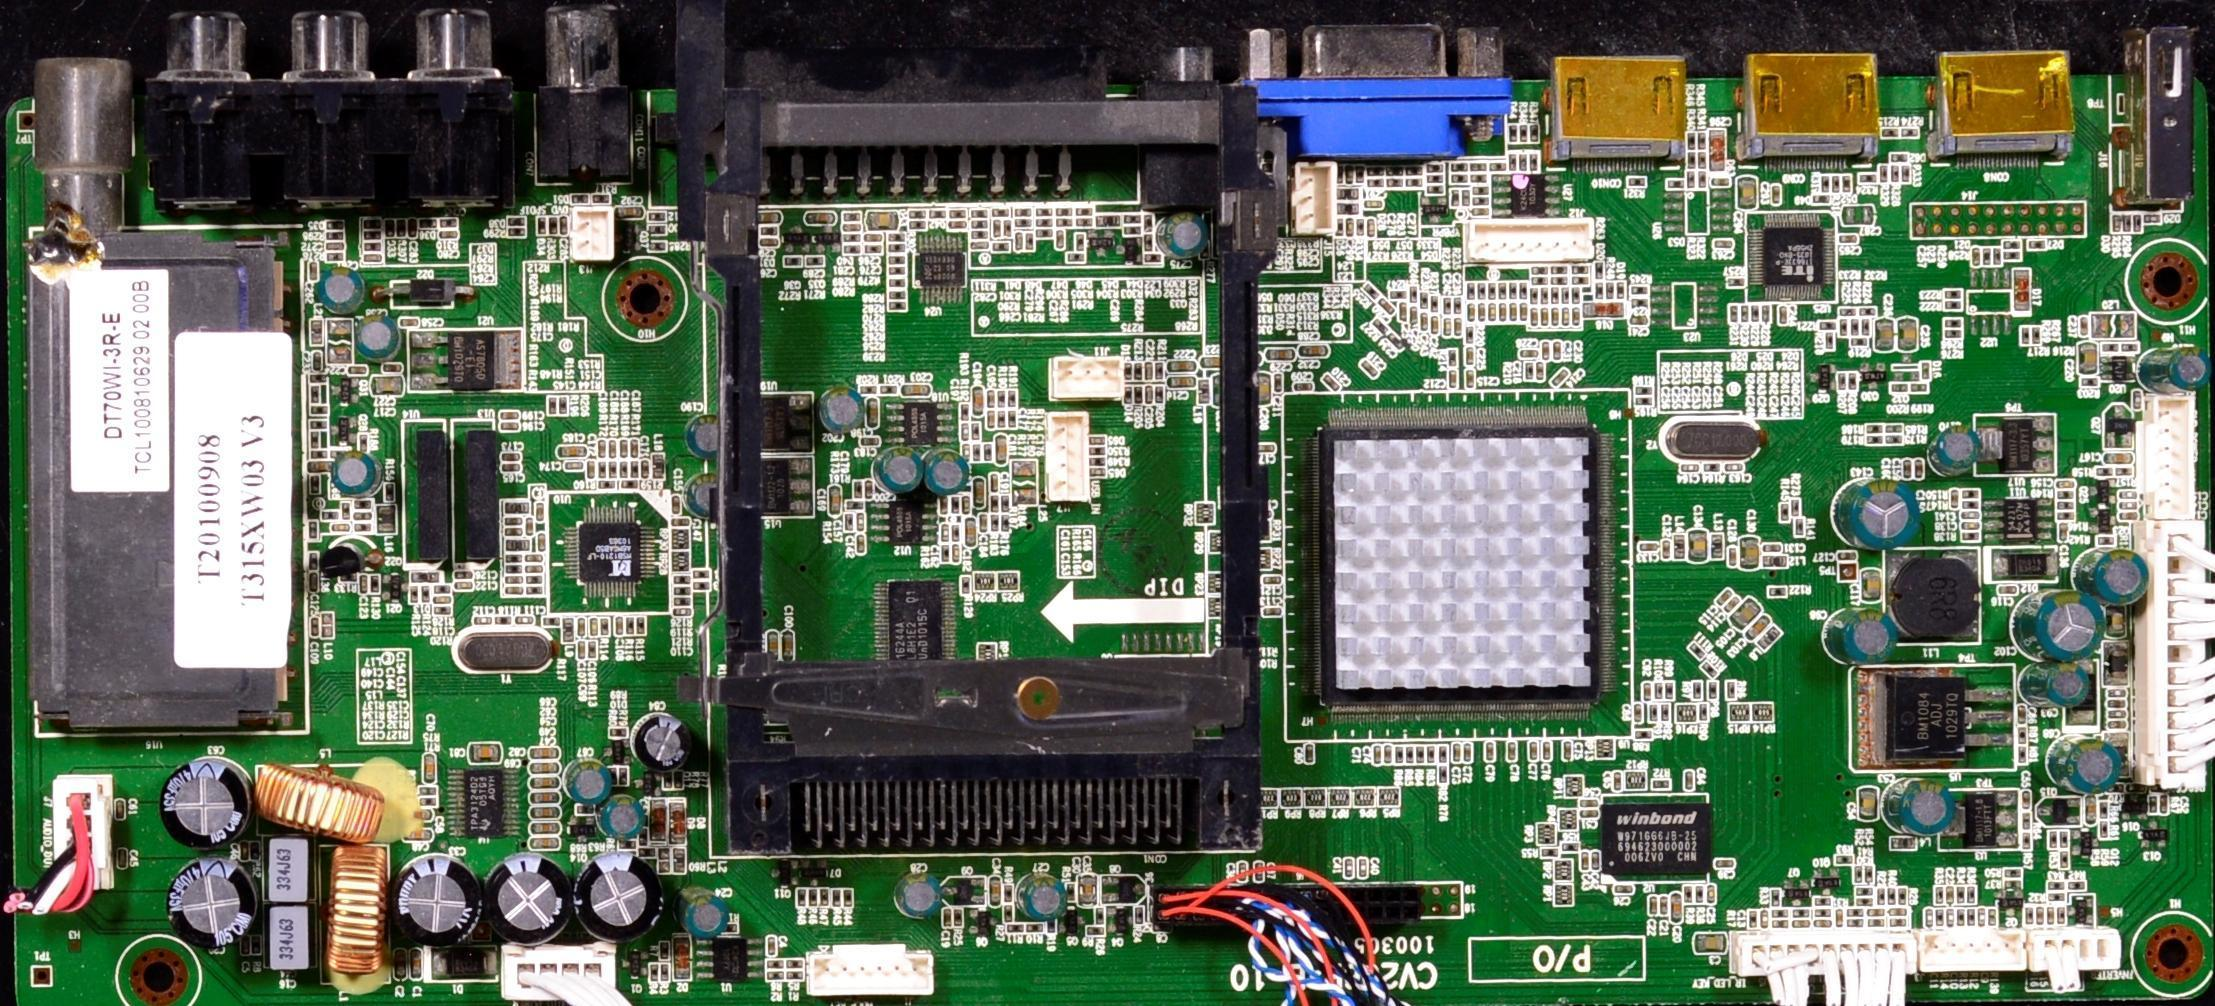Capacitor: (2024, 594, 2092, 657), (1883, 782, 1949, 835), (2055, 736, 2115, 795), (2144, 347, 2212, 393), (2083, 550, 2143, 601), (2020, 665, 2083, 703), (1163, 215, 1210, 255), (2074, 341, 2101, 378), (1735, 174, 1759, 209), (1861, 569, 1882, 606), (2103, 604, 2126, 636), (1899, 317, 1920, 351), (1877, 317, 1897, 352), (1692, 933, 1727, 953), (373, 376, 405, 397), (1841, 205, 1875, 225), (1740, 534, 1760, 567), (467, 743, 502, 762), (1687, 529, 1707, 560), (867, 210, 898, 228), (532, 834, 563, 850), (531, 805, 563, 821), (988, 875, 1004, 904), (529, 745, 559, 760), (529, 759, 560, 774), (826, 487, 843, 516), (422, 754, 439, 783), (406, 826, 433, 843), (531, 789, 559, 804), (531, 819, 562, 834), (667, 491, 684, 517), (355, 572, 371, 598), (1360, 359, 1380, 380), (971, 388, 984, 418), (1265, 349, 1297, 362), (866, 397, 879, 430), (1299, 345, 1331, 357), (994, 434, 1007, 465), (554, 445, 585, 458), (1735, 595, 1748, 626), (964, 519, 977, 546), (806, 212, 836, 225), (328, 521, 353, 535), (574, 639, 588, 664), (1168, 360, 1199, 372), (1259, 375, 1270, 406), (499, 418, 522, 432), (2104, 697, 2127, 710), (1610, 880, 1635, 895), (1669, 894, 1683, 919), (973, 476, 985, 506), (1167, 376, 1195, 387), (903, 384, 931, 395), (500, 448, 522, 462), (1260, 604, 1283, 617), (620, 441, 635, 461), (628, 441, 644, 461), (2103, 453, 2134, 463), (588, 615, 600, 638), (502, 574, 528, 585), (532, 776, 559, 787), (2132, 390, 2146, 411), (1750, 615, 1764, 636), (1365, 217, 1377, 240), (1054, 229, 1066, 251), (1200, 357, 1225, 369), (574, 616, 586, 638), (407, 808, 432, 820), (1325, 373, 1340, 391), (755, 212, 782, 222), (525, 562, 545, 577), (1504, 743, 1519, 763), (437, 230, 461, 241), (2078, 314, 2089, 337), (501, 462, 525, 474), (1706, 882, 1718, 905), (1363, 198, 1385, 210), (532, 501, 545, 523), (524, 517, 537, 539), (1371, 745, 1384, 766), (1683, 770, 1695, 791), (1381, 300, 1395, 318), (1390, 332, 1404, 350), (1628, 314, 1650, 325), (1448, 367, 1459, 390), (670, 515, 692, 526), (1838, 549, 1860, 561), (1995, 584, 2017, 595), (2104, 719, 2126, 731), (1343, 858, 1355, 880), (1343, 217, 1356, 238), (1465, 302, 1477, 322), (1257, 440, 1277, 452), (2054, 479, 2080, 489), (1661, 537, 1671, 562), (674, 605, 694, 618), (1459, 187, 1470, 207), (1535, 361, 1547, 381), (586, 462, 597, 483), (2116, 510, 2138, 522), (1639, 542, 1660, 554), (1303, 742, 1314, 763), (1451, 743, 1462, 764), (1383, 745, 1394, 766), (1866, 919, 1887, 930), (498, 411, 522, 421), (559, 462, 584, 472), (978, 512, 988, 535), (1758, 541, 1782, 551), (1590, 850, 1600, 875), (1253, 860, 1263, 885), (1648, 894, 1659, 919), (1810, 918, 1833, 928), (1448, 188, 1460, 206), (1560, 307, 1571, 326), (1550, 369, 1561, 388), (858, 436, 880, 446), (1901, 459, 1912, 479), (1726, 544, 1736, 567), (504, 587, 527, 596), (433, 593, 453, 605), (512, 615, 534, 624), (2105, 689, 2127, 699), (1563, 739, 1573, 759), (1528, 742, 1540, 761), (1543, 740, 1552, 763), (1759, 908, 1770, 928), (1711, 240, 1736, 249), (606, 439, 619, 457), (2016, 705, 2029, 722), (1485, 742, 1497, 759), (1579, 851, 1592, 867), (1344, 165, 1353, 186), (1838, 234, 1859, 244), (969, 240, 990, 250), (1776, 304, 1786, 325), (347, 365, 369, 375), (960, 423, 970, 444), (2118, 502, 2139, 511), (2058, 522, 2068, 543), (856, 533, 866, 554), (1642, 683, 1652, 703), (1236, 862, 1246, 883), (1658, 897, 1669, 918), (985, 411, 996, 429), (1914, 460, 1925, 479), (1581, 808, 1599, 820), (2024, 907, 2035, 926), (1986, 909, 1998, 927), (1923, 909, 1934, 927), (758, 236, 782, 245), (2104, 712, 2127, 721), (2120, 489, 2136, 501), (1460, 744, 1473, 760), (948, 220, 967, 230), (1519, 304, 1529, 323), (1410, 307, 1419, 327), (1634, 704, 1644, 724), (1358, 857, 1368, 878), (1834, 905, 1843, 925), (1944, 909, 1954, 928), (1529, 309, 1540, 326), (1260, 575, 1282, 584), (1613, 770, 1622, 792), (1771, 185, 1782, 204), (992, 219, 1001, 238), (1014, 232, 1024, 250), (1970, 247, 1980, 266), (1571, 309, 1581, 328), (950, 544, 961, 562), (524, 553, 543, 563), (1716, 587, 1726, 605), (473, 614, 492, 625), (2036, 907, 2045, 925), (2045, 908, 2056, 927), (1791, 919, 1809, 928), (1471, 207, 1492, 216), (1144, 384, 1153, 406), (990, 474, 999, 494), (452, 571, 473, 580), (1711, 177, 1730, 185), (863, 233, 883, 242), (1477, 302, 1487, 320), (1486, 302, 1495, 322), (1509, 304, 1518, 321), (1400, 303, 1409, 322), (1540, 310, 1549, 327), (1519, 349, 1539, 358), (600, 440, 609, 459), (962, 495, 970, 514), (537, 533, 547, 550), (2158, 795, 2168, 812), (1578, 798, 1600, 806), (1891, 906, 1906, 917), (1421, 312, 1429, 331), (1541, 340, 1549, 359), (1274, 373, 1283, 392), (986, 390, 995, 408), (1946, 889, 1955, 907), (1978, 909, 1986, 927), (1889, 919, 1907, 927), (841, 223, 861, 231), (1442, 317, 1450, 337), (1499, 305, 1507, 322), (1452, 320, 1461, 336), (454, 582, 471, 590), (1549, 312, 1560, 326), (1431, 317, 1438, 336), (1145, 362, 1153, 382), (1292, 382, 1313, 389), (961, 444, 968, 463), (857, 508, 865, 529), (1725, 596, 1735, 610), (1467, 350, 1475, 366), (938, 497, 947, 513), (326, 240, 345, 247), (1553, 340, 1559, 359), (1716, 858, 1735, 865), (1868, 910, 1886, 917), (1466, 371, 1474, 387), (941, 525, 948, 541)
Connector: (23, 50, 309, 721), (143, 8, 503, 199), (1253, 20, 1512, 170), (523, 15, 641, 204), (1541, 51, 1677, 179), (1923, 48, 2076, 161), (1733, 33, 1882, 149), (798, 951, 927, 988)
IC: (1283, 397, 1628, 734), (1859, 667, 2021, 765), (552, 496, 669, 613), (1745, 211, 1838, 303), (1599, 805, 1710, 880), (407, 328, 528, 394), (458, 417, 508, 570), (870, 577, 956, 660), (408, 422, 453, 569), (1973, 414, 2058, 475), (447, 765, 519, 835), (1951, 789, 2018, 850), (694, 935, 763, 985), (918, 240, 966, 302), (1666, 191, 1730, 234), (1662, 280, 1717, 332), (1494, 176, 1560, 216), (1993, 497, 2048, 543), (1970, 270, 2009, 332), (2101, 357, 2135, 380)
Resistor: (975, 571, 997, 592), (997, 570, 1018, 591), (671, 582, 692, 601), (436, 218, 462, 232), (415, 796, 441, 809), (851, 481, 866, 503), (605, 727, 632, 740), (324, 231, 347, 244), (415, 782, 440, 796), (1964, 887, 1980, 905), (878, 382, 899, 397), (506, 541, 532, 552), (1856, 170, 1877, 183), (1368, 177, 1388, 191), (1909, 382, 1929, 395), (858, 383, 879, 397), (2019, 789, 2033, 810), (796, 886, 809, 907), (2078, 376, 2100, 389), (2095, 534, 2118, 547), (1697, 704, 1709, 726), (2146, 795, 2161, 814), (325, 249, 345, 263), (1523, 362, 1537, 382), (639, 461, 652, 480), (338, 502, 352, 522), (2066, 879, 2087, 893), (840, 889, 855, 908), (2056, 907, 2069, 927), (618, 478, 641, 489), (350, 498, 374, 509), (959, 573, 971, 598), (1726, 679, 1738, 704), (1652, 778, 1675, 790), (1726, 277, 1747, 289), (595, 481, 616, 493), (2045, 879, 2067, 891), (1085, 926, 1106, 938), (2043, 892, 2069, 902), (971, 205, 989, 219), (1693, 644, 1706, 663), (2016, 745, 2030, 763), (1094, 907, 1107, 926), (502, 561, 524, 572), (431, 582, 453, 594), (1538, 848, 1561, 859), (783, 256, 803, 268), (2019, 326, 2032, 346), (1889, 380, 1908, 393), (1768, 889, 1782, 909), (1528, 124, 1540, 145), (2103, 339, 2120, 353), (310, 385, 320, 406), (2056, 489, 2076, 500), (1779, 504, 1790, 526), (1767, 587, 1789, 597), (1663, 679, 1674, 701), (1706, 679, 1718, 701), (1691, 680, 1702, 701), (2099, 800, 2110, 821), (2100, 820, 2112, 840), (1833, 855, 1855, 866), (1002, 884, 1013, 905), (2091, 469, 2114, 479), (588, 636, 597, 660), (908, 208, 926, 220), (1073, 232, 1086, 250), (948, 497, 961, 516), (2016, 727, 2028, 746), (806, 887, 819, 906), (1520, 123, 1530, 145), (1354, 165, 1365, 185), (1991, 247, 2002, 267), (1066, 251, 1086, 263), (805, 255, 825, 266), (1571, 274, 1590, 285), (1486, 280, 1497, 300), (1837, 305, 1856, 316), (1836, 372, 1848, 391), (1865, 424, 1885, 435), (1886, 435, 1906, 446), (607, 458, 617, 480), (352, 512, 374, 521), (502, 515, 524, 524), (524, 575, 546, 585), (409, 584, 421, 604), (623, 615, 634, 634), (1649, 705, 1660, 725), (1437, 764, 1448, 784), (1855, 895, 1875, 905), (1813, 896, 1832, 907), (1770, 909, 1792, 919), (1004, 904, 1015, 924), (1934, 909, 1945, 928), (1426, 161, 1442, 174), (1453, 174, 1471, 187), (1445, 350, 1458, 367), (999, 516, 1011, 532), (354, 522, 372, 534), (504, 550, 521, 562), (2004, 879, 2022, 891), (2133, 214, 2143, 235), (841, 233, 862, 243), (364, 241, 385, 252), (841, 244, 861, 254), (1942, 300, 1964, 310), (2120, 342, 2141, 352), (1155, 384, 1165, 405), (503, 525, 524, 536), (635, 615, 645, 636), (1066, 882, 1077, 903), (1819, 173, 1831, 191), (908, 219, 927, 230), (993, 240, 1011, 252), (1858, 305, 1876, 316), (1818, 319, 1837, 330), (1861, 320, 1872, 337), (2031, 326, 2042, 345), (1847, 373, 1858, 391), (995, 390, 1006, 409), (995, 410, 1006, 428), (309, 430, 320, 448), (1089, 457, 1107, 467), (309, 522, 320, 540), (541, 615, 559, 626), (1934, 887, 1945, 905), (819, 888, 831, 906), (1874, 890, 1889, 904), (1686, 130, 1696, 150), (1449, 162, 1469, 173), (1427, 175, 1447, 185), (1628, 176, 1647, 186), (1401, 176, 1421, 187), (926, 208, 947, 218), (2003, 250, 2023, 260), (886, 265, 906, 275), (1944, 290, 1963, 299), (1763, 305, 1773, 325), (1850, 320, 1861, 339), (1466, 326, 1476, 346), (1155, 362, 1165, 381), (1006, 389, 1016, 408), (959, 402, 969, 423), (1866, 434, 1886, 443), (2113, 467, 2133, 478), (1790, 499, 1800, 519), (320, 509, 340, 519), (1795, 518, 1805, 538), (673, 573, 692, 583), (1660, 703, 1670, 724), (1439, 744, 1449, 764), (1415, 745, 1426, 764), (1865, 865, 1874, 884), (1134, 904, 1144, 924), (1845, 917, 1864, 927), (766, 959, 785, 969), (1685, 153, 1697, 169), (1830, 174, 1841, 191), (1074, 208, 1096, 216), (861, 244, 884, 253), (888, 254, 906, 265), (1593, 262, 1605, 279), (1429, 296, 1441, 312), (1006, 410, 1017, 427), (310, 449, 327, 460), (2056, 512, 2078, 520), (940, 545, 951, 562), (525, 588, 548, 596), (674, 595, 691, 606), (1898, 888, 1910, 904), (1955, 888, 1967, 904), (1771, 919, 1788, 929), (1404, 166, 1423, 175), (970, 220, 989, 230), (1002, 219, 1012, 237), (1750, 305, 1760, 324), (558, 396, 568, 414), (617, 460, 627, 479), (693, 581, 712, 590), (419, 585, 430, 603), (1559, 840, 1578, 851), (1682, 887, 1692, 905), (1747, 910, 1758, 928), (650, 962, 660, 980), (660, 963, 670, 982), (767, 971, 786, 981), (1386, 177, 1400, 189), (1425, 186, 1446, 195), (1033, 229, 1054, 238), (1530, 277, 1551, 285), (1499, 278, 1507, 299), (1570, 289, 1582, 304), (1942, 319, 1963, 328), (1943, 329, 1963, 338), (1134, 361, 1143, 382), (842, 511, 851, 532), (989, 514, 1001, 529), (691, 568, 712, 577), (1425, 744, 1434, 766), (955, 906, 963, 927), (1143, 234, 1154, 250), (1367, 284, 1379, 300), (1408, 285, 1419, 301), (1549, 287, 1561, 302), (629, 463, 640, 479), (1885, 888, 1896, 903), (1696, 130, 1704, 154), (1488, 162, 1505, 173), (1880, 164, 1888, 183), (1698, 173, 1708, 189), (1013, 206, 1033, 215), (992, 207, 1009, 217), (1124, 215, 1142, 225), (1143, 215, 1153, 232), (2122, 215, 2132, 232), (547, 217, 557, 235), (1551, 264, 1568, 274), (889, 278, 906, 288), (1631, 285, 1649, 295), (888, 290, 906, 299), (1420, 292, 1430, 309), (548, 395, 557, 416), (310, 406, 329, 414), (309, 421, 329, 430), (1885, 424, 1904, 433), (1090, 447, 1107, 457), (983, 444, 992, 463), (598, 460, 607, 478), (307, 552, 317, 570), (1636, 732, 1653, 742), (2020, 812, 2030, 829), (1855, 865, 1865, 882), (1955, 909, 1965, 925), (1006, 924, 1026, 933), (786, 970, 803, 981), (431, 607, 454, 615), (601, 612, 608, 635), (1705, 662, 1717, 677), (948, 210, 966, 219), (888, 233, 907, 242), (1388, 289, 1407, 298), (890, 302, 909, 311), (1729, 304, 1738, 322), (1825, 332, 1834, 351), (2056, 503, 2074, 511), (1395, 746, 1404, 764), (1791, 909, 1809, 917), (1965, 909, 1974, 927), (1472, 174, 1487, 183), (1476, 282, 1486, 298), (1509, 282, 1518, 298), (1466, 282, 1476, 298), (1519, 282, 1528, 298), (1540, 289, 1550, 305), (1634, 299, 1650, 309), (950, 525, 961, 541), (494, 615, 510, 625), (1694, 887, 1703, 903), (832, 890, 842, 906), (1814, 907, 1830, 917), (1849, 340, 1870, 348), (1698, 152, 1707, 169), (1891, 164, 1900, 181), (1687, 170, 1695, 186), (1056, 218, 1073, 226), (1076, 218, 1094, 226), (1036, 219, 1053, 227), (1015, 219, 1033, 228), (970, 232, 988, 240), (972, 444, 981, 461), (2002, 867, 2019, 876), (1143, 254, 1162, 261), (1528, 265, 1548, 273), (1442, 300, 1452, 313), (973, 424, 981, 443), (1126, 226, 1141, 235), (888, 243, 904, 252), (1740, 304, 1749, 319), (1841, 319, 1849, 335), (1134, 385, 1142, 403), (1845, 908, 1863, 916), (1473, 184, 1484, 195), (1055, 207, 1076, 213), (1025, 233, 1033, 250), (1571, 265, 1588, 273), (1607, 282, 1615, 300), (1655, 682, 1662, 700), (1406, 745, 1413, 761), (1856, 888, 1873, 894), (1025, 924, 1043, 931), (785, 960, 802, 966), (1667, 179, 1683, 187), (1473, 196, 1489, 203), (1551, 277, 1567, 284), (1456, 298, 1464, 314), (1559, 289, 1568, 303), (1530, 289, 1539, 302), (1001, 494, 1007, 513), (1038, 206, 1053, 214), (991, 497, 997, 512)
Transistor: (2040, 795, 2081, 826), (2103, 405, 2132, 447), (2071, 894, 2095, 928), (2139, 824, 2165, 849), (1811, 870, 1841, 890), (1783, 884, 1811, 901), (1123, 239, 1141, 264), (1995, 893, 2025, 907), (1815, 364, 1832, 389), (810, 232, 839, 245), (782, 231, 808, 245), (1860, 369, 1888, 382), (1089, 237, 1115, 247)
